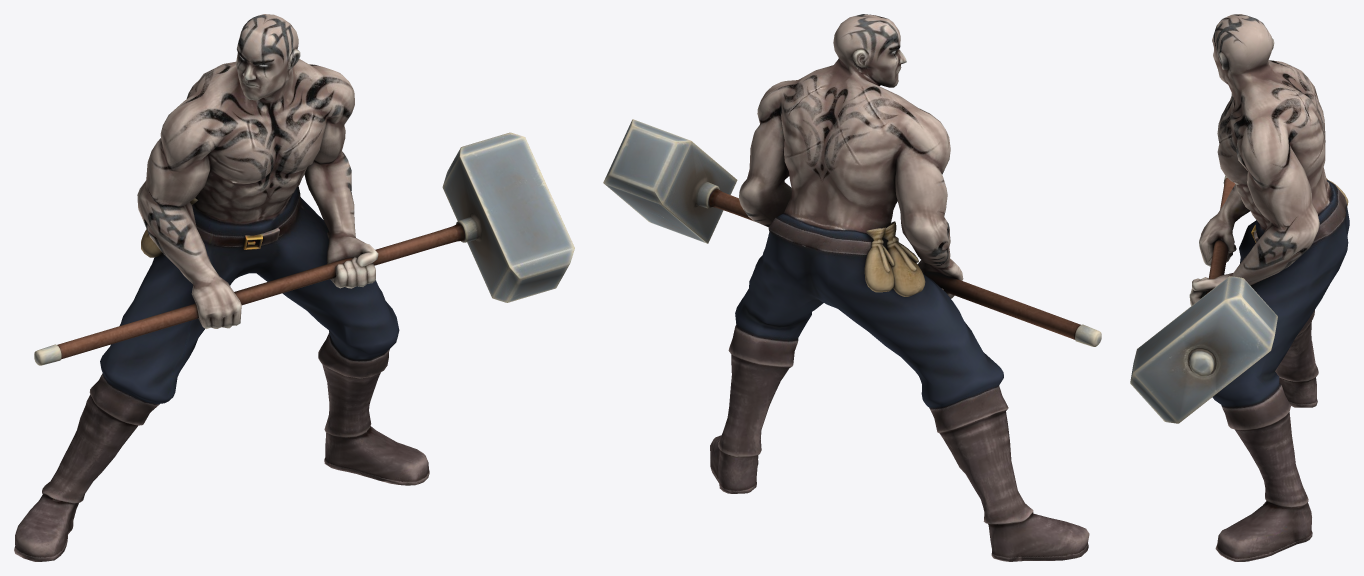
File: Barbarian - Goliath with maul.glb
3 renders of one model, left to right at view 1: azimuth 30°, elevation 25°; view 2: azimuth 150°, elevation 25°; view 3: azimuth 270°, elevation 25°, orthographic. The views are drawn at different scales.
Parts seen in each view (by area): view 1: body_low.001, maul_low.001; view 2: body_low.001, maul_low.001, bag1_low.001, bag2_low.001; view 3: body_low.001, maul_low.001.
Part boxes in pixels (<box>): body_low.001: <box>14,14,429,561</box>; maul_low.001: <box>34,132,574,365</box>; body_low.001: <box>710,14,1089,561</box>; maul_low.001: <box>603,119,1101,346</box>; bag1_low.001: <box>883,221,925,296</box>; bag2_low.001: <box>864,227,894,292</box>; body_low.001: <box>1189,14,1349,561</box>; maul_low.001: <box>1130,176,1277,423</box>.
Size of the model in its own units: 6.95 by 6.53 by 2.77.
Materials: 1 (1 with a texture image).
